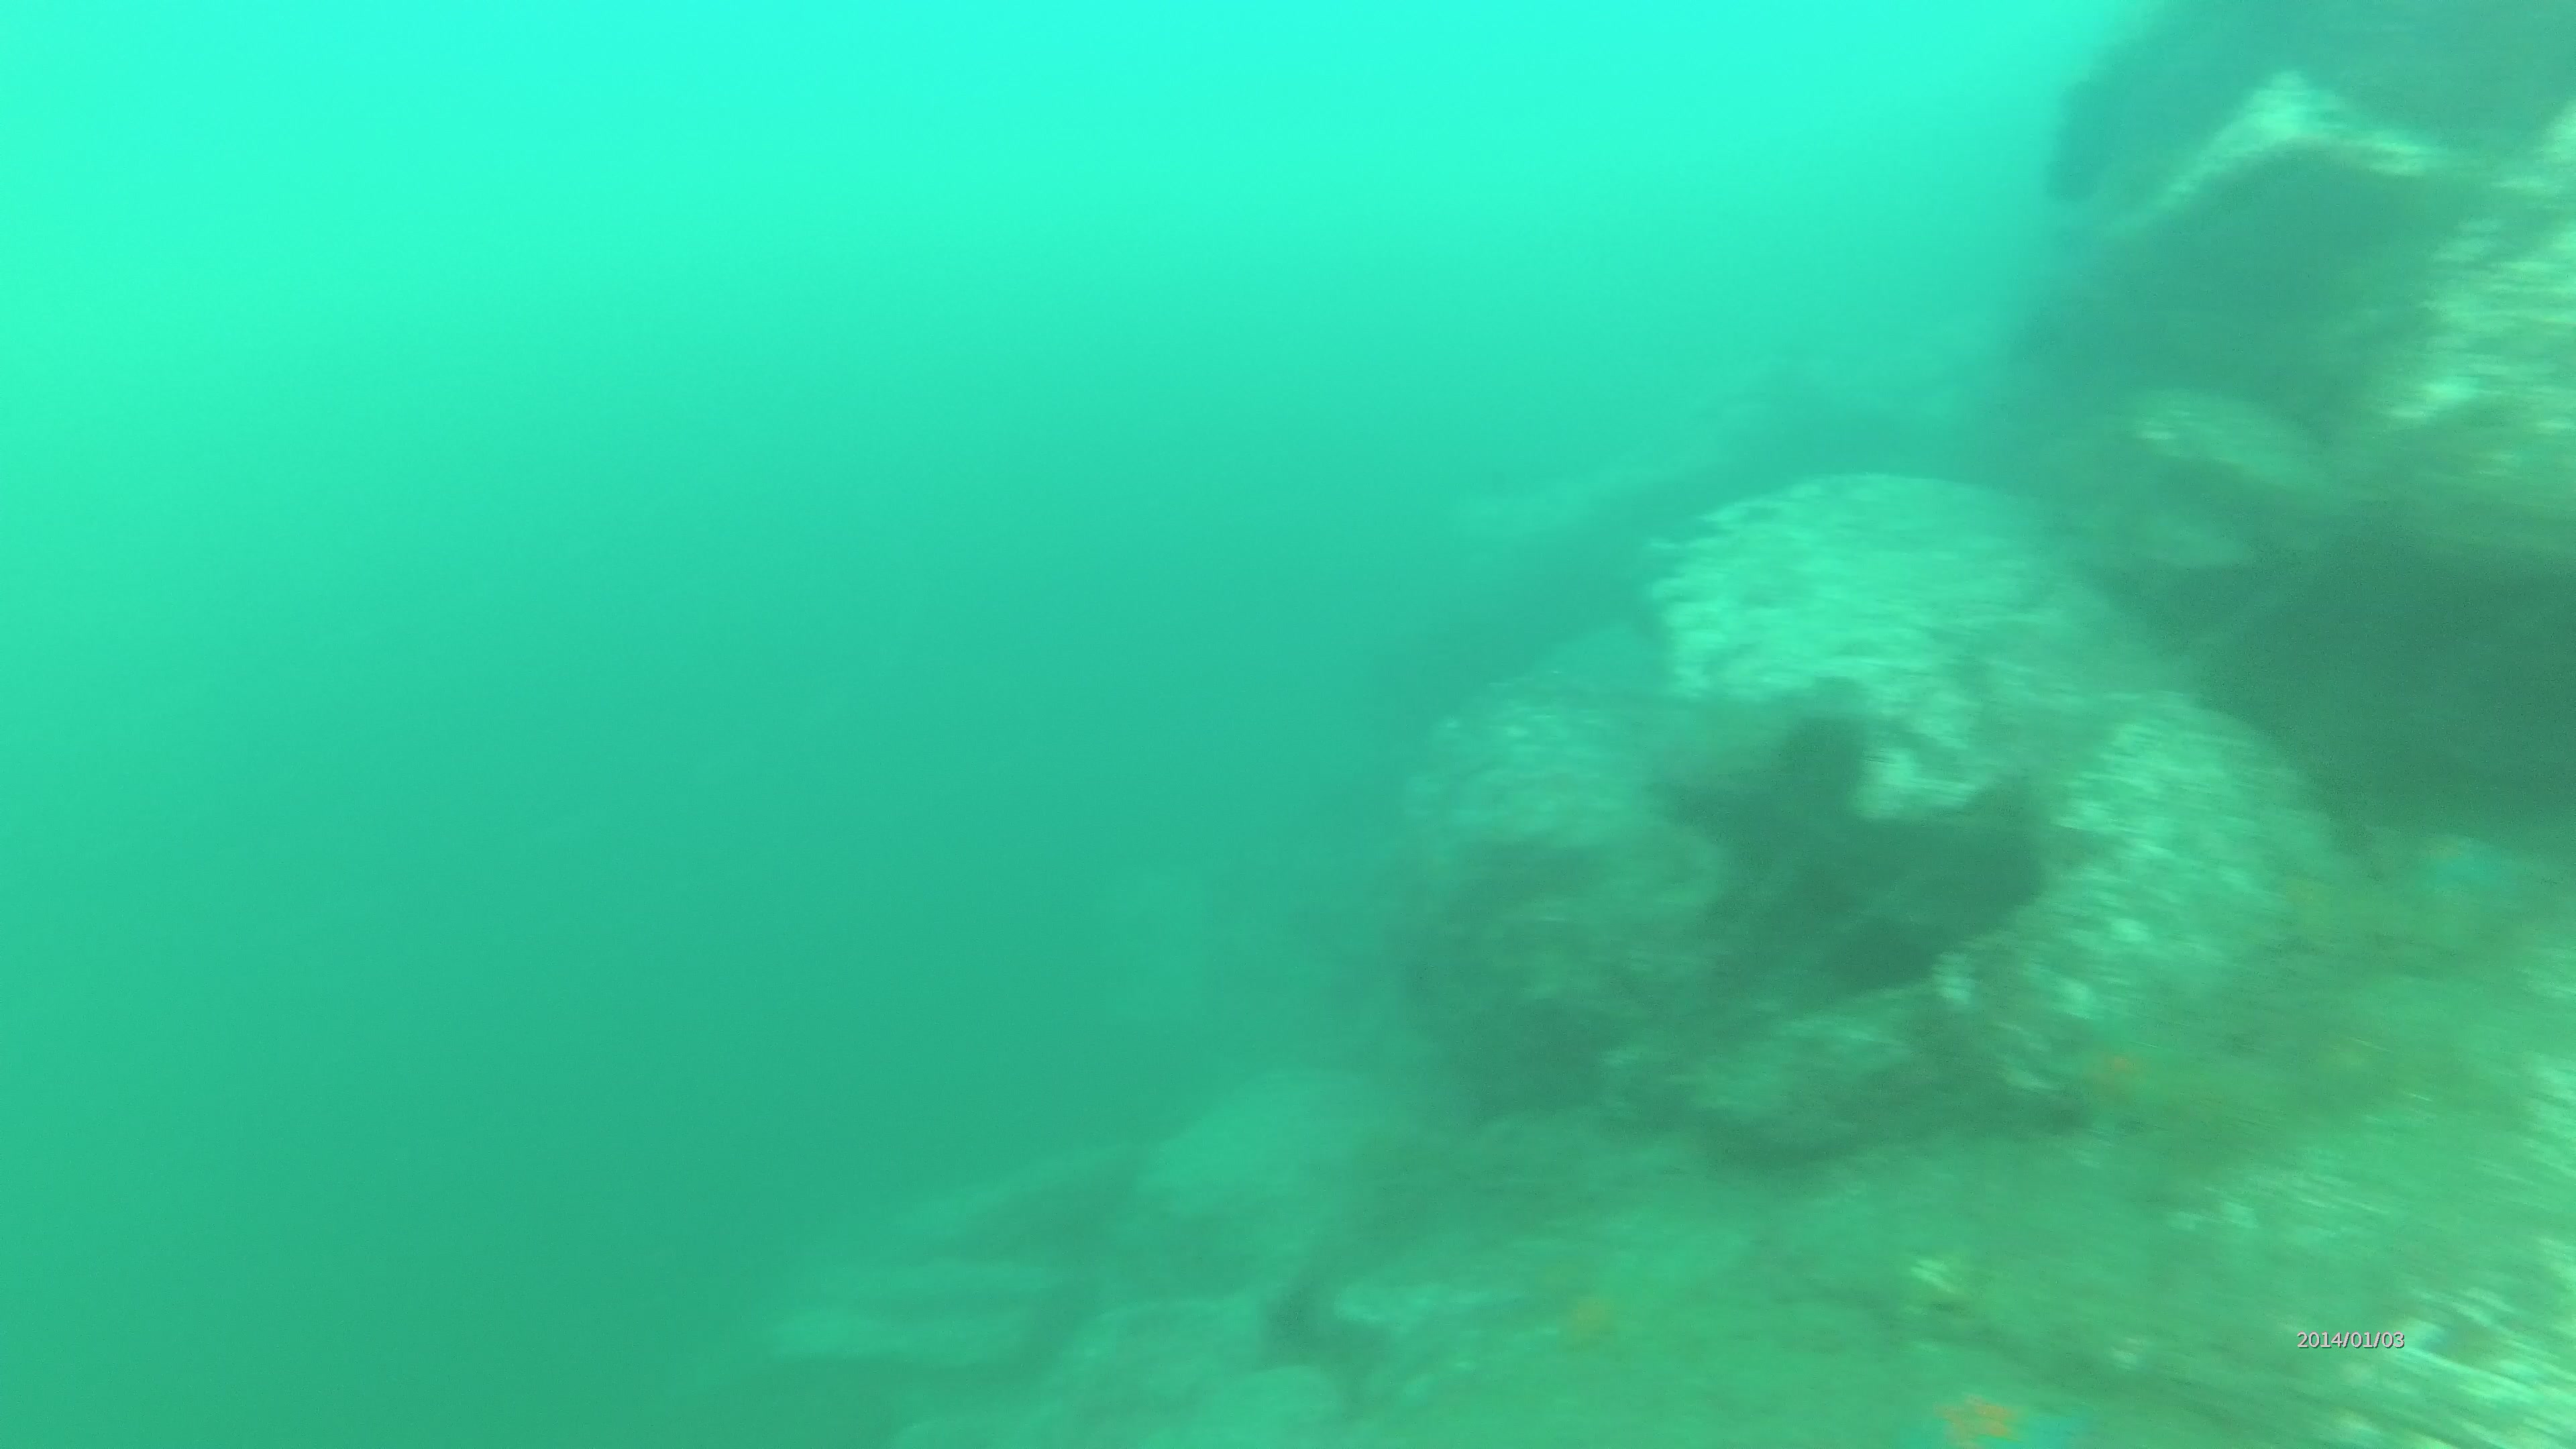echinus: (2261, 1000, 2452, 1116), (1737, 697, 1884, 814), (2157, 1060, 2293, 1180)
starfish: (2047, 1007, 2203, 1155), (2383, 814, 2537, 931), (1891, 1362, 2098, 1449), (1523, 1274, 1661, 1378)
